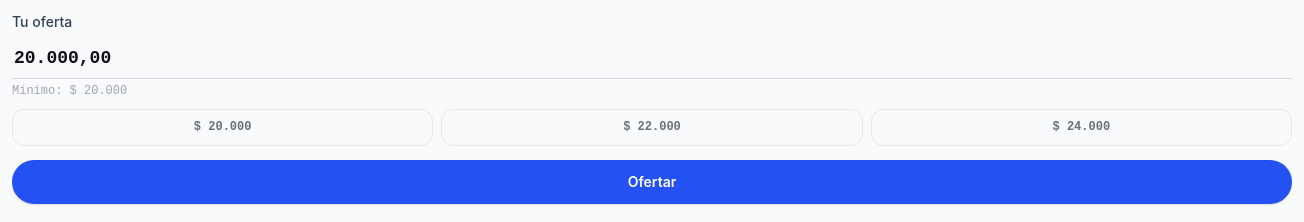
Test: PlaceBidButton › elegir una oferta sugerida completa el input, pero no manda la oferta
Step 1. Click the button "$ 24.000" → (1081, 128), box top-left (871, 109), bottom-right (1292, 146)
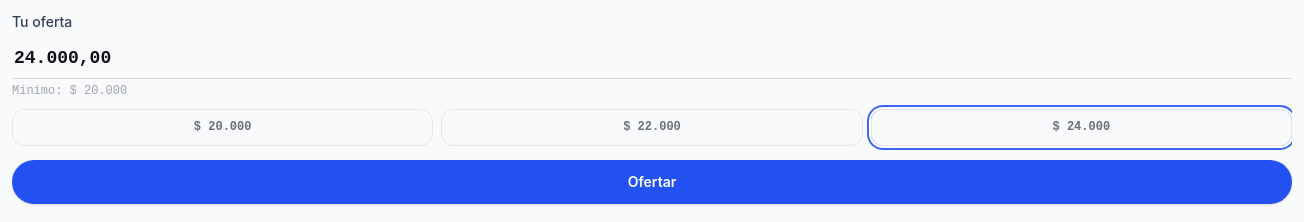
Result: the field labelled "Tu oferta" holds "24.000,00" at top-left (12, 38), bottom-right (1292, 79)
